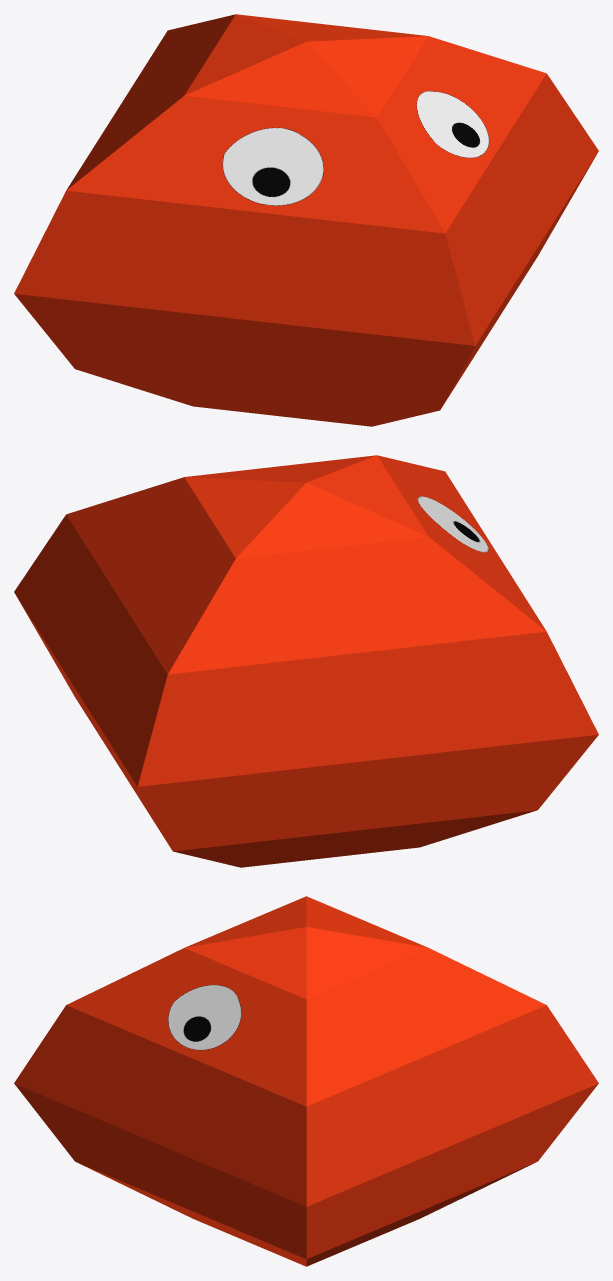
Rendered from dot_walk.fbx.
3 renders of one model, top to bottom at view 1: azimuth 30°, elevation 25°; view 2: azimuth 150°, elevation 25°; view 3: azimuth 270°, elevation 25°, orthographic. The views are drawn at different scales.
Parts seen in each view (by area): view 1: dot; view 2: dot; view 3: dot.
Boxes of the visible parts, x1=… form: dot: x1=14, y1=14, x2=598, y2=426; dot: x1=14, y1=455, x2=598, y2=867; dot: x1=14, y1=896, x2=598, y2=1266.
Bounding box in the file's own units: 28.03 × 15.44 × 28.03.
Materials: 1 (1 with a texture image).
